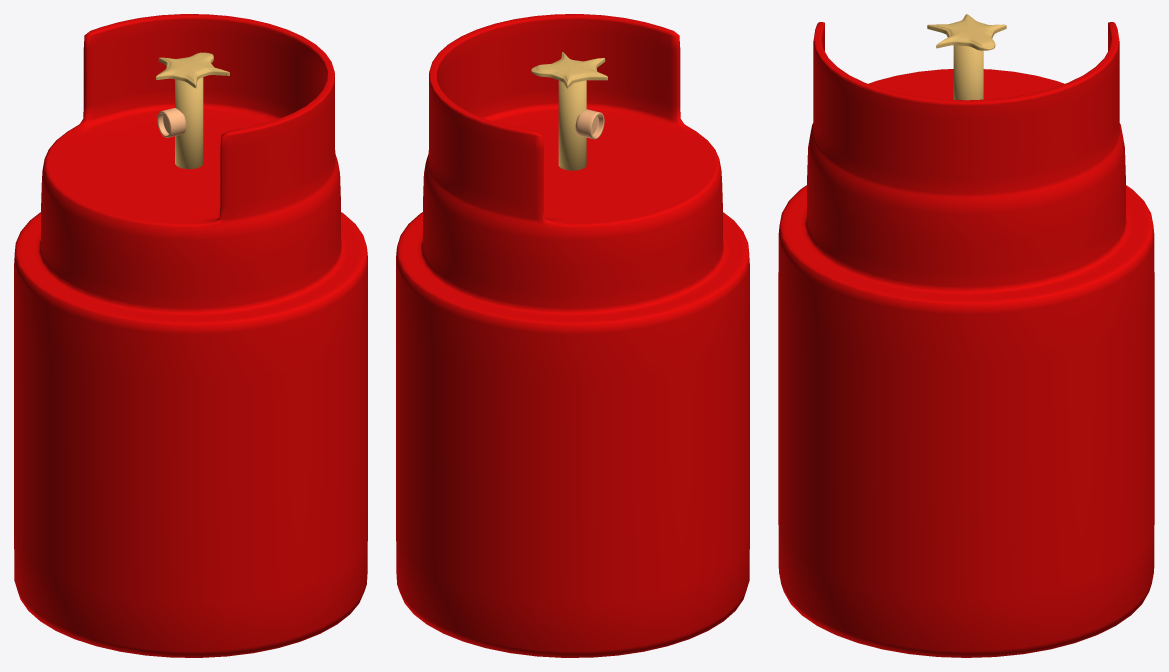
Rendered from GasCylinder.fbx.
3 renders of one model, left to right at view 1: azimuth 30°, elevation 25°; view 2: azimuth 150°, elevation 25°; view 3: azimuth 270°, elevation 25°, orthographic. The views are drawn at different scales.
Parts seen in each view (by area): view 1: Cylinder; view 2: Cylinder; view 3: Cylinder.
Part boxes in pixels (x1,y1,x2,y2): Cylinder: (14,14,367,657); Cylinder: (396,14,749,657); Cylinder: (778,14,1154,657).
Size of the model in its own units: 244 by 394 by 244.
